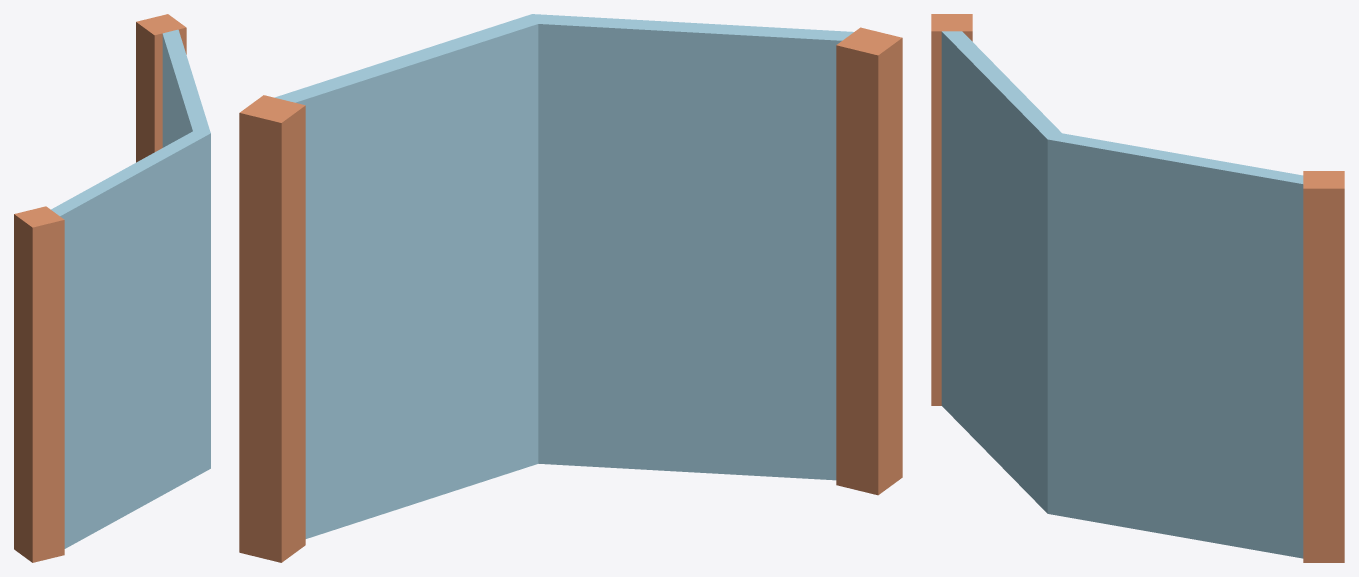
Rendered from wallCornerEdge.fbx.
3 views of the same model, side by side, from view 1: azimuth 30°, elevation 25°; view 2: azimuth 150°, elevation 25°; view 3: azimuth 270°, elevation 25° (orthographic). The views are drawn at different scales.
Parts seen in each view (by area): view 1: wallCornerEdge; view 2: wallCornerEdge; view 3: wallCornerEdge.
Boxes of the visible parts, x1,y1,x2,y2 form: wallCornerEdge: [14, 14, 210, 562]; wallCornerEdge: [239, 14, 902, 562]; wallCornerEdge: [931, 14, 1344, 562].
Size of the model in its own units: 10 by 10 by 10.
